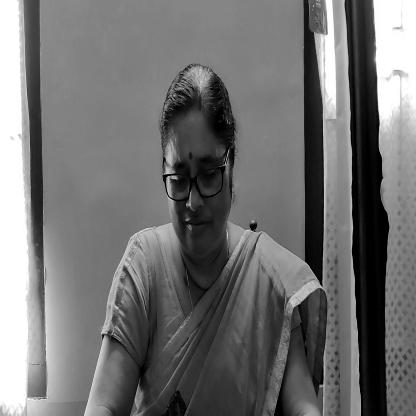Normal: (164, 71, 238, 261)
